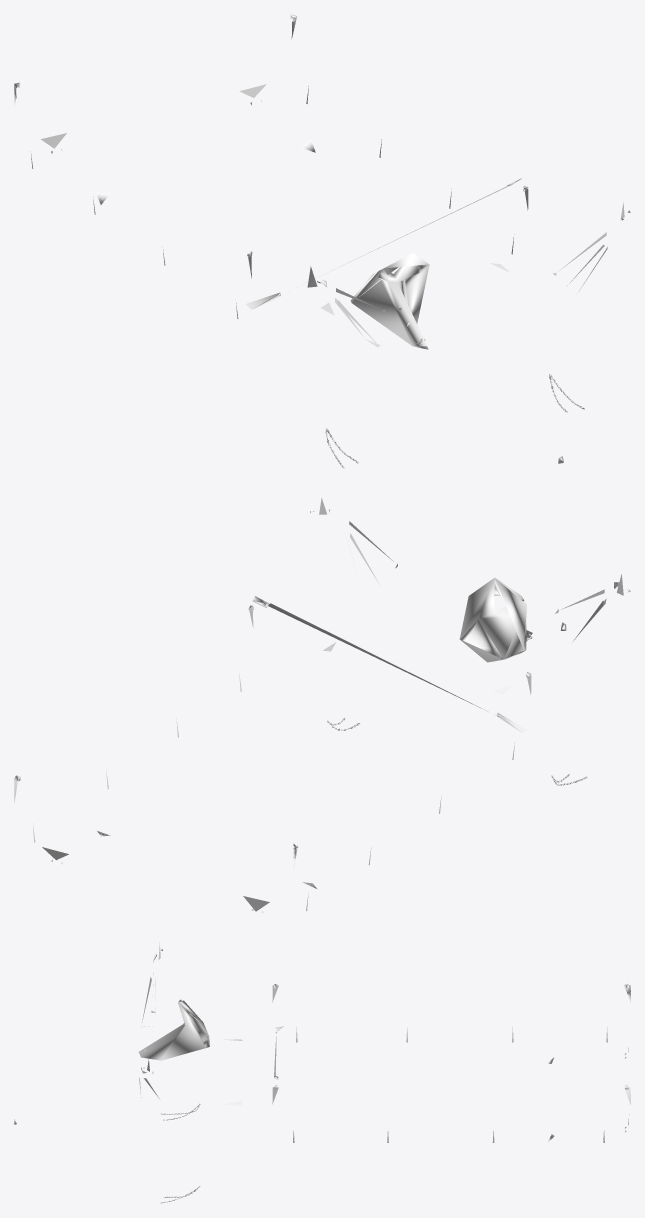
The picture shows the model from 3 angles, top to bottom: view 1: azimuth 30°, elevation 25°; view 2: azimuth 150°, elevation 25°; view 3: azimuth 270°, elevation 25°; orthographic projection. The views are drawn at different scales.
Size of the model in its own units: 2.91 by 1.81 by 6.32.
1 material, 1 textured.
